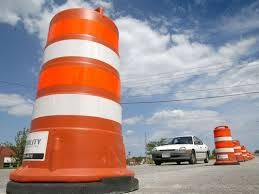barrel: (11, 8, 135, 179), (213, 128, 235, 163), (233, 140, 240, 162)
